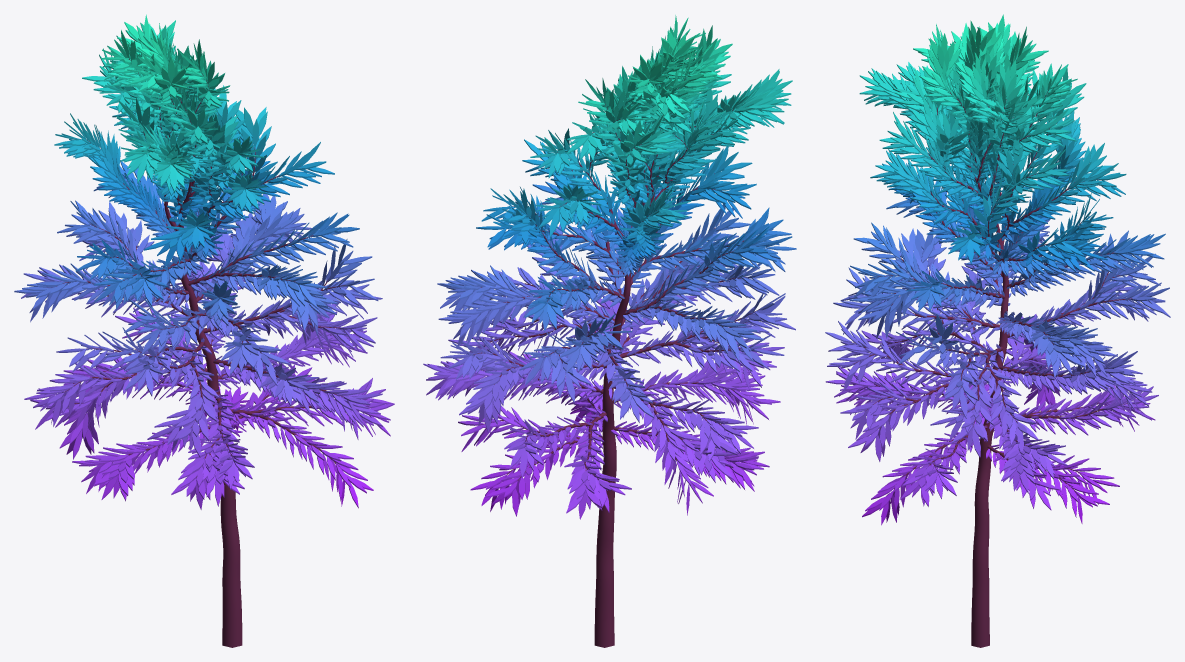
File: normal size tree 0.2.fbx
The picture shows the model from 3 angles, left to right: view 1: azimuth 30°, elevation 25°; view 2: azimuth 150°, elevation 25°; view 3: azimuth 270°, elevation 25°; orthographic projection. The views are drawn at different scales.
Parts seen in each view (by area): view 1: leaves.001, tree.001; view 2: leaves.001, tree.001; view 3: leaves.001, tree.001.
Boxes of the visible parts, x1,y1,x2,y2 form: leaves.001: [14, 14, 394, 509]; tree.001: [56, 58, 345, 647]; leaves.001: [423, 15, 796, 519]; tree.001: [473, 77, 759, 647]; leaves.001: [825, 14, 1170, 525]; tree.001: [853, 90, 1132, 647].
Size of the model in its own units: 517 by 927 by 493.
